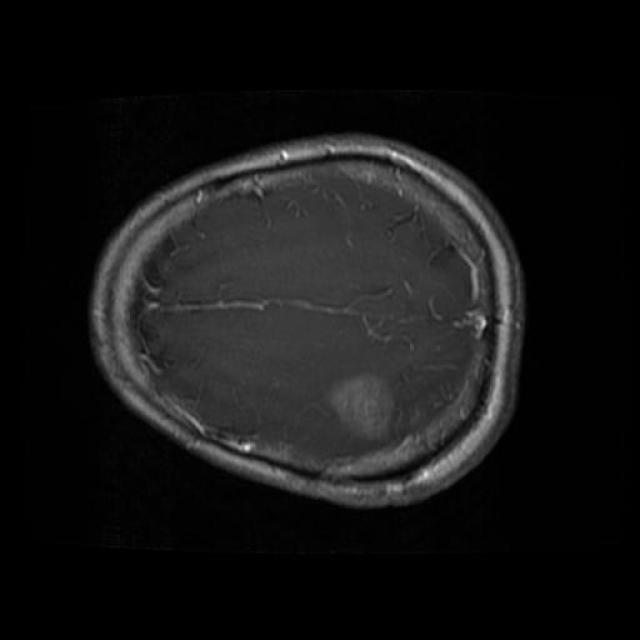Glioma: (326, 373, 394, 439)
